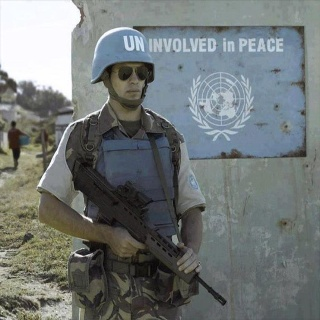rifle: (72, 161, 227, 308)
